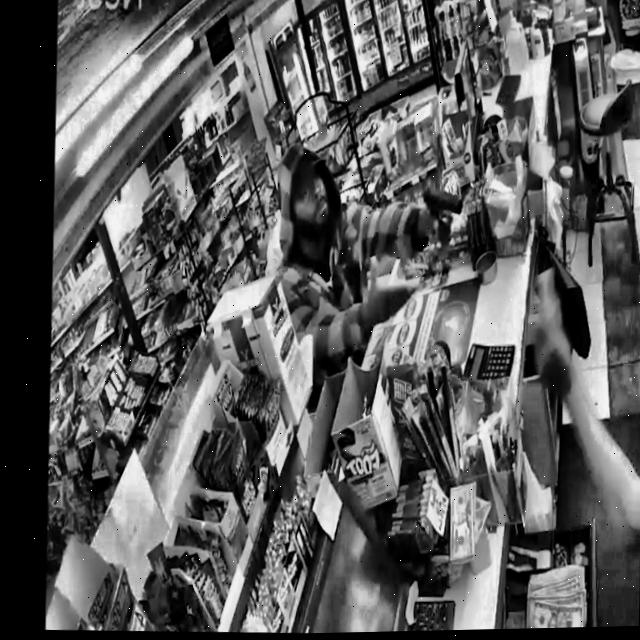pistol: (409, 166, 466, 247)
